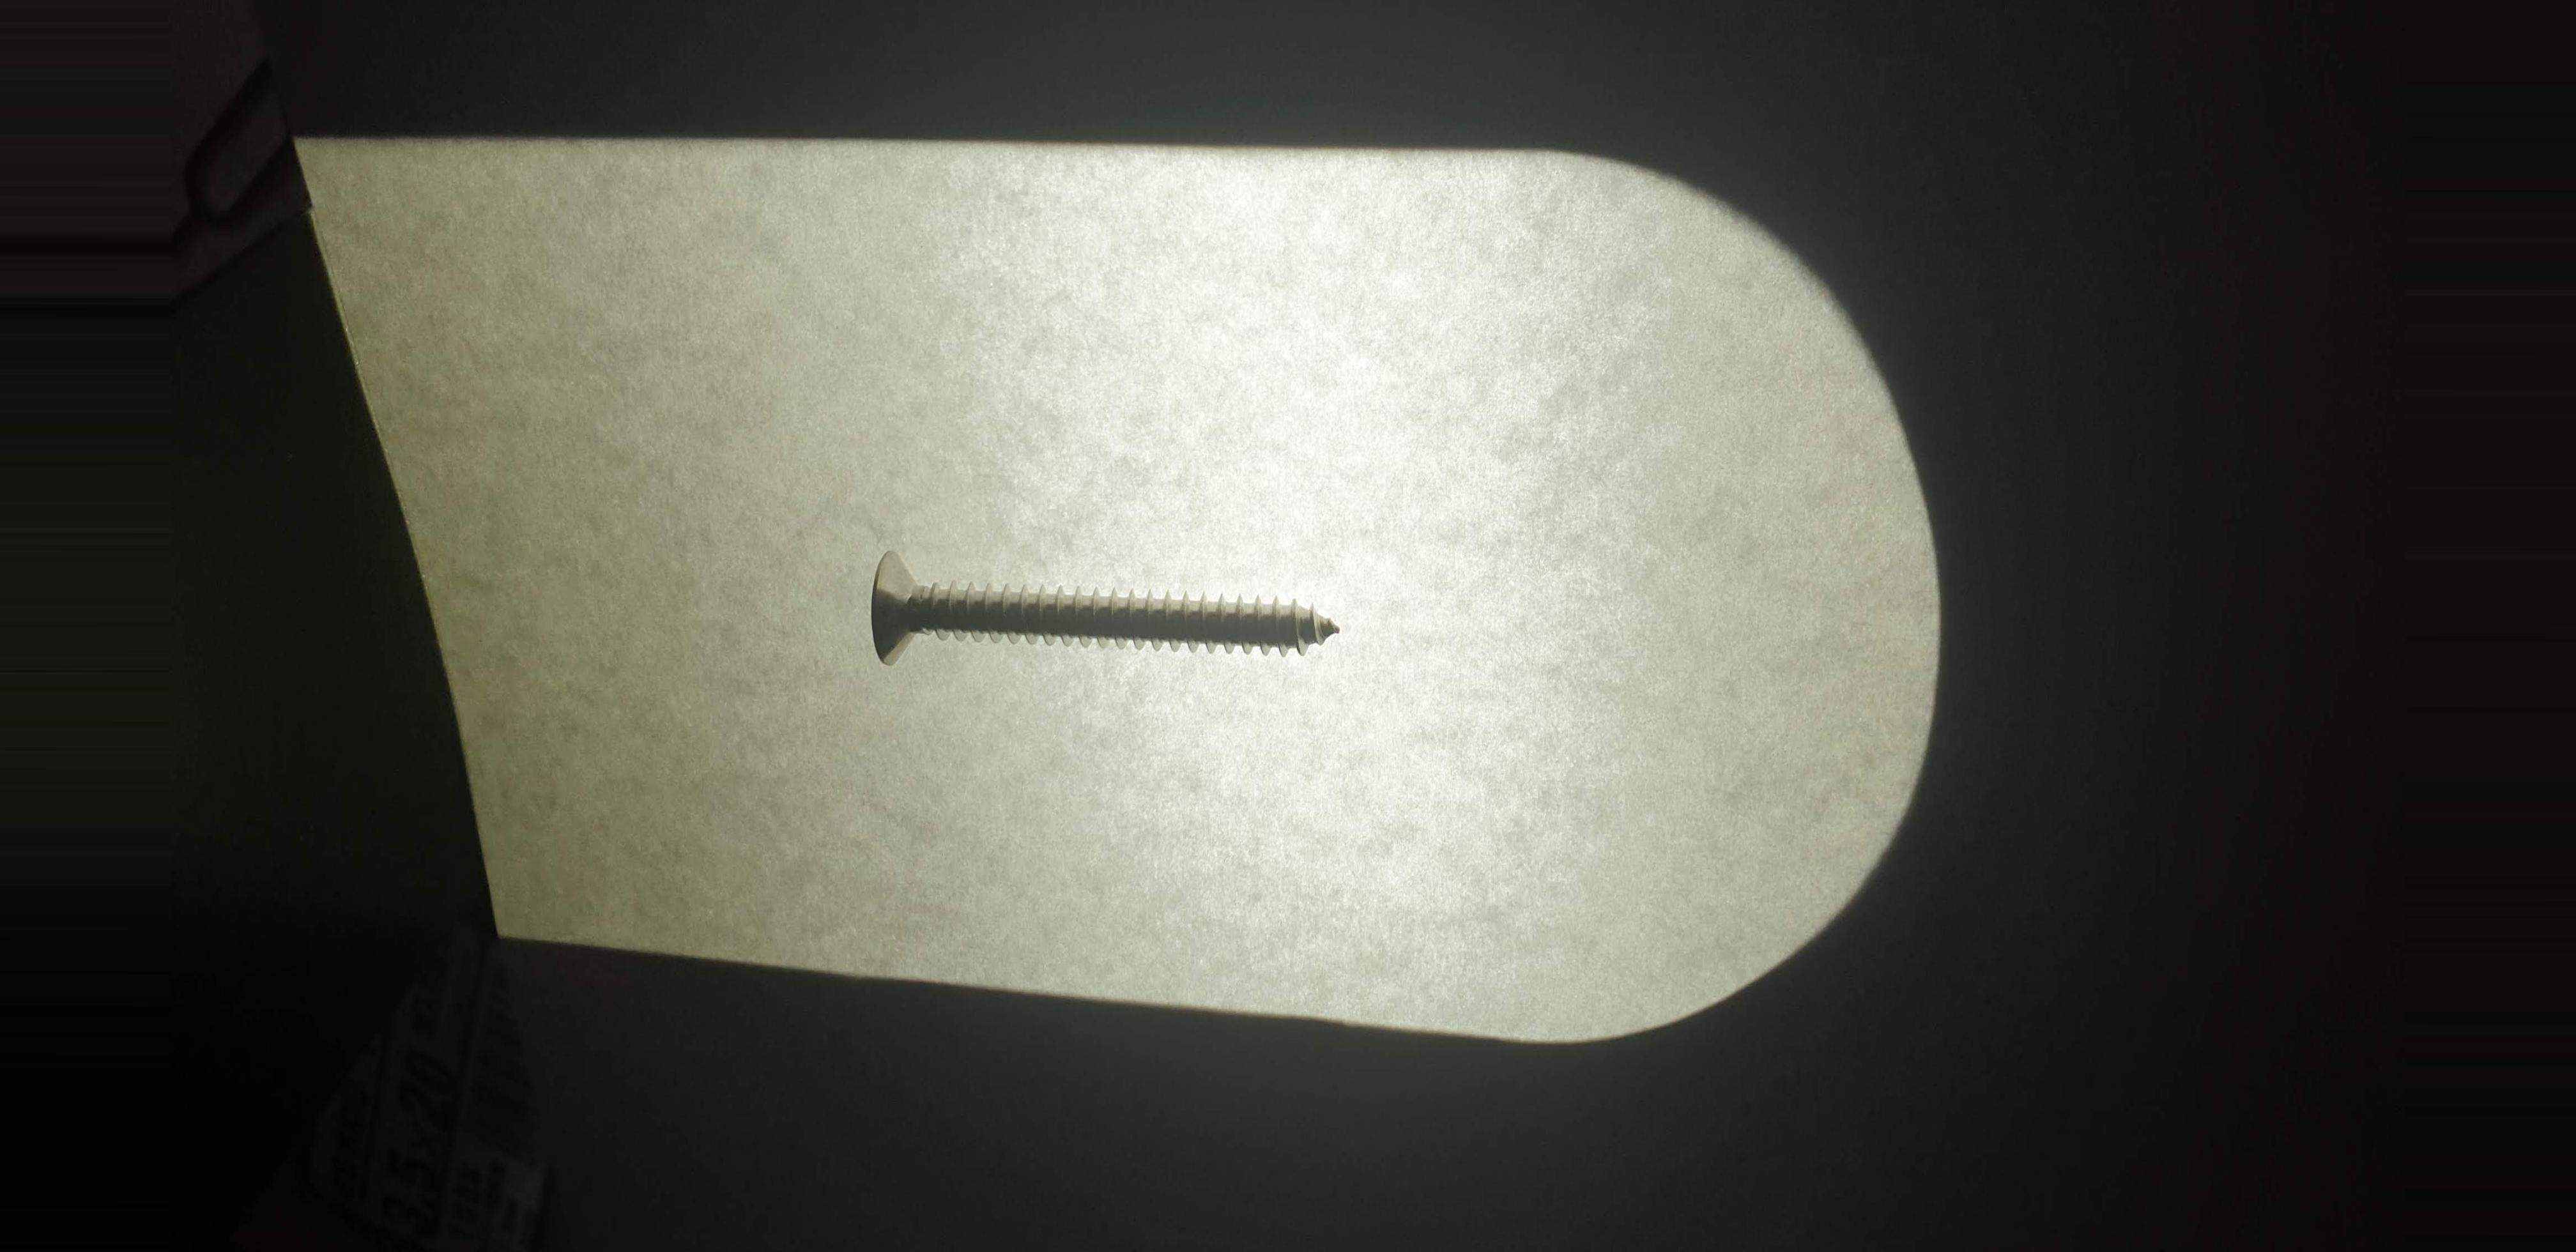S001: (846, 514, 1375, 707)
